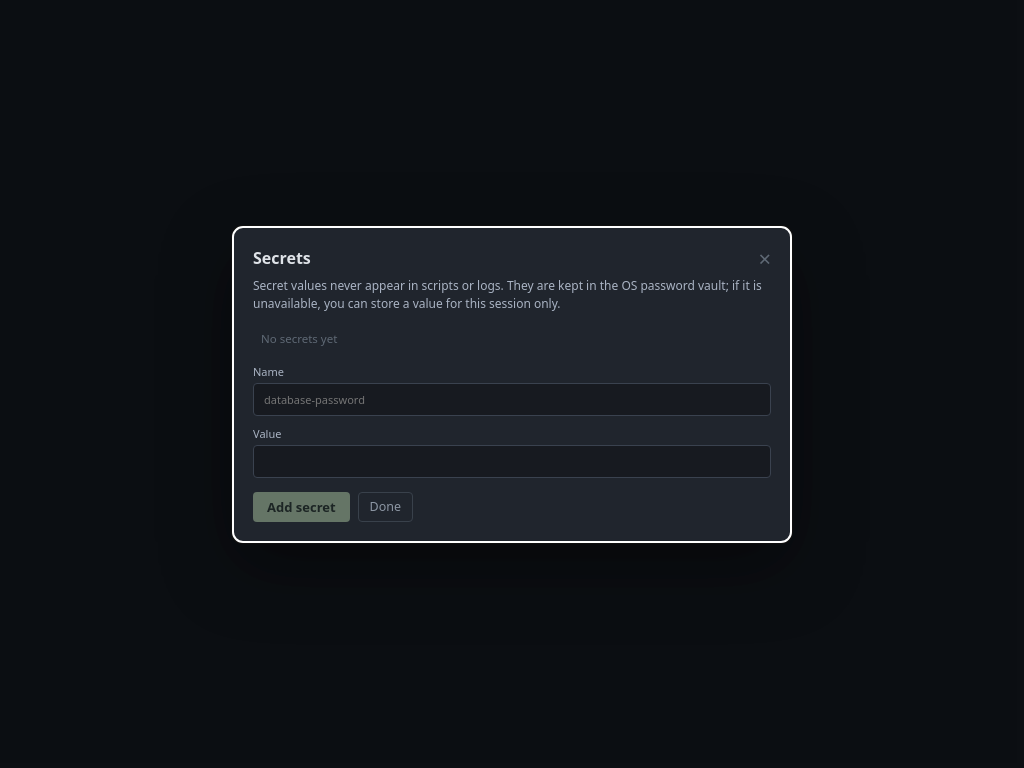
Test: does not offer session storage for non-vault errors
Type "token" into the field labelled "Name" at (512, 399), box x1=253 y1=382 x2=771 y2=416
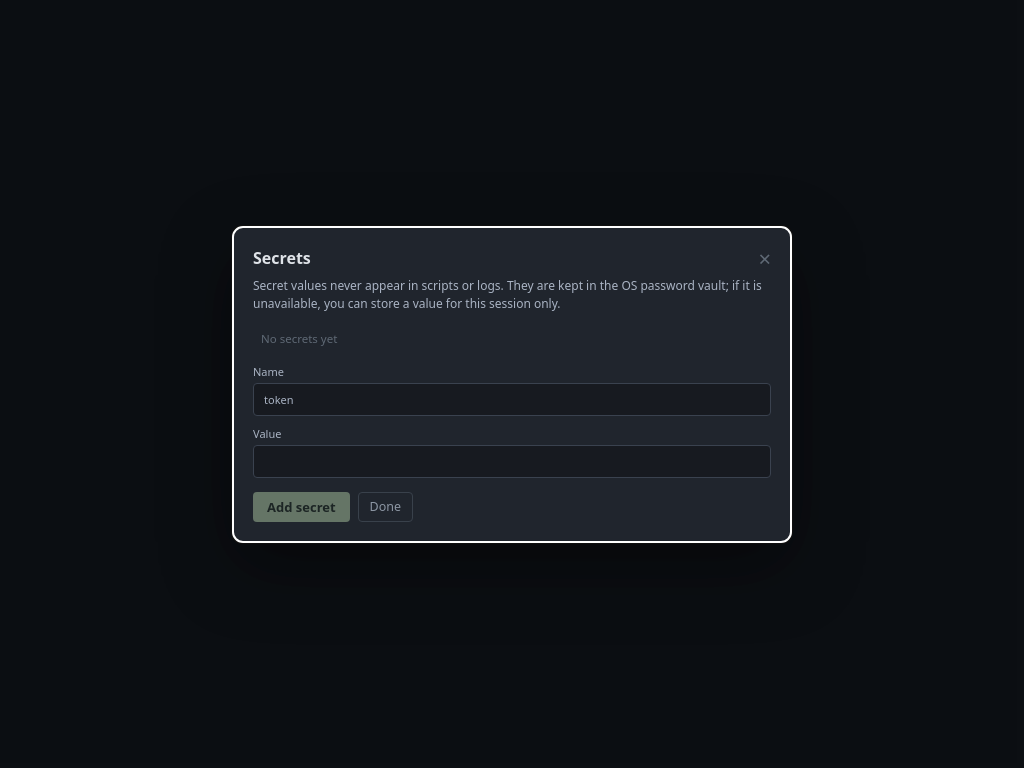
Type "value" into the password field labelled "Value" at (512, 461), box x1=253 y1=444 x2=771 y2=478
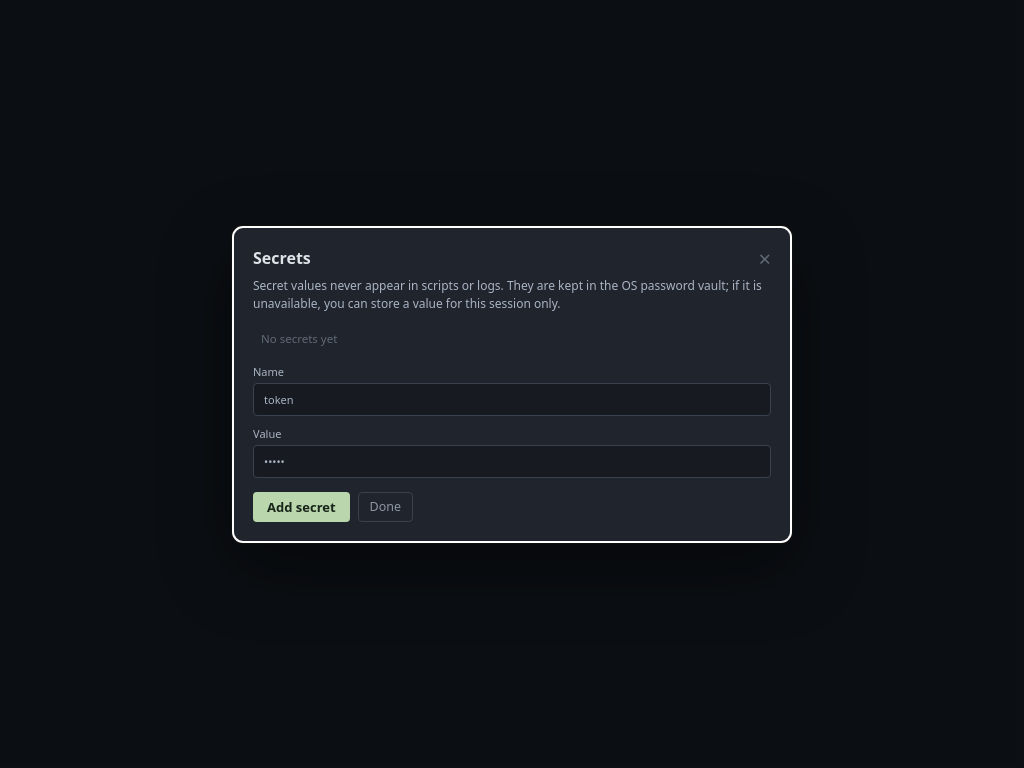
Click the button "Add secret" at (301, 506), box x1=253 y1=492 x2=350 y2=522
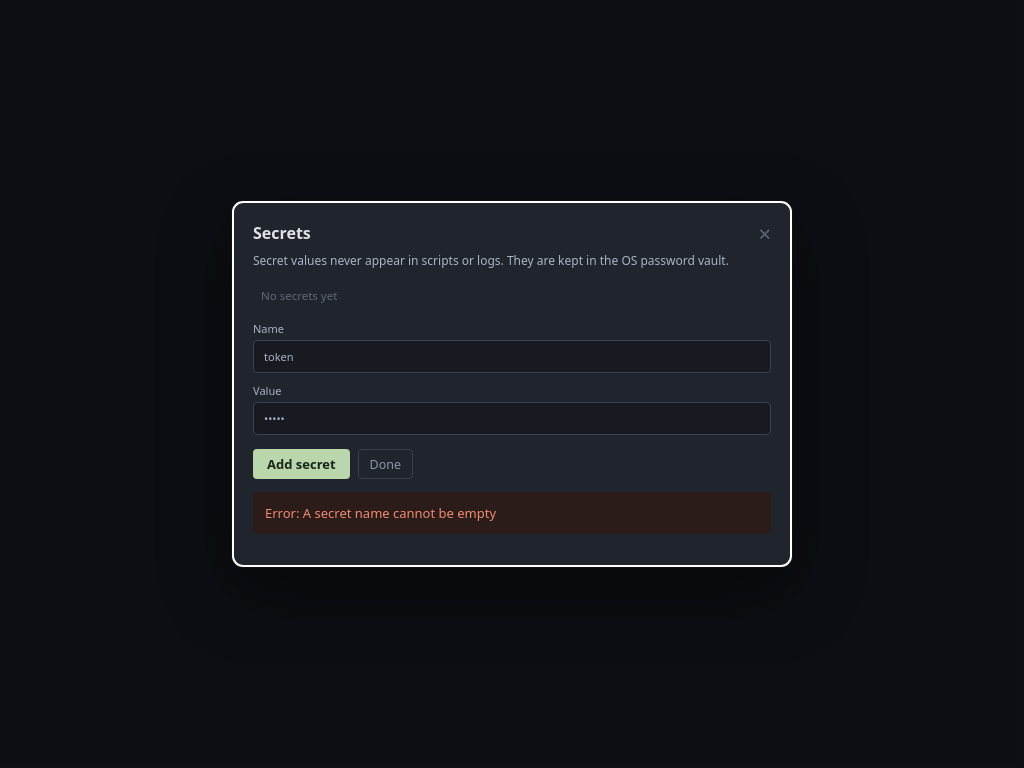
Check: the message shows "cannot be empty", box x1=265 y1=504 x2=496 y2=522
